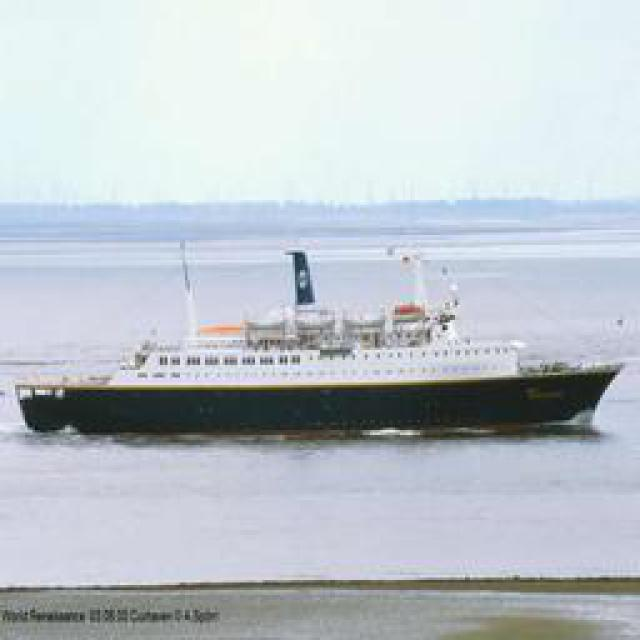Ship: (13, 252, 631, 440)
